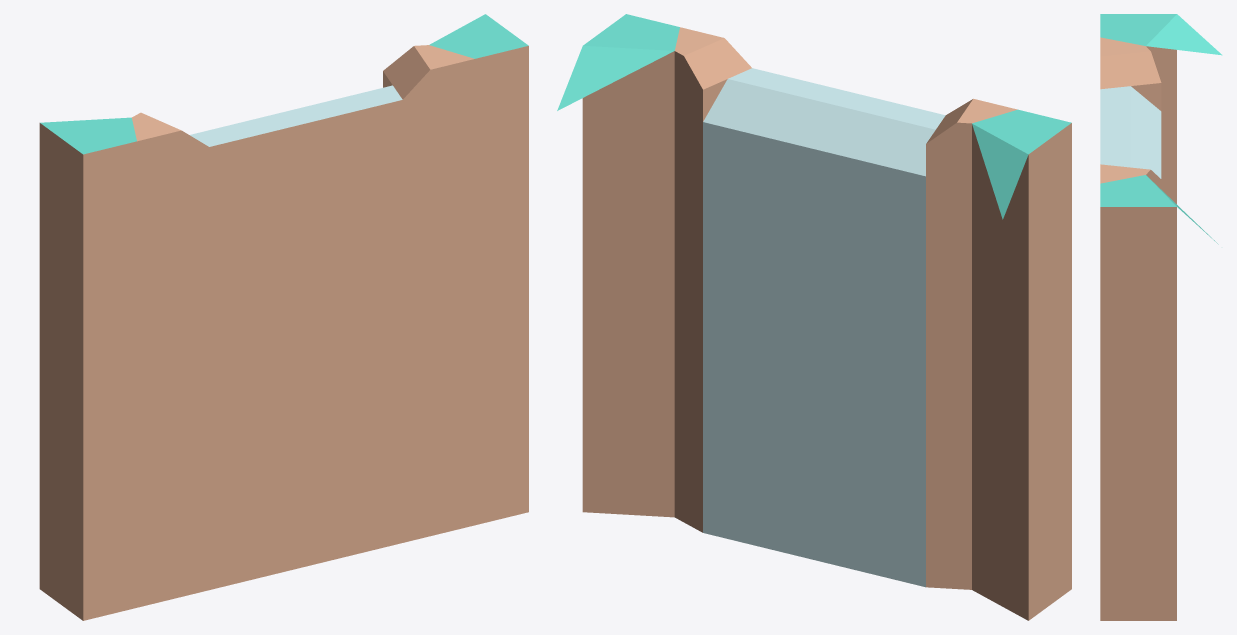
The model's file is cliff_waterfallTop_rock.glb.
The picture shows the model from 3 angles, left to right: view 1: azimuth 30°, elevation 25°; view 2: azimuth 150°, elevation 25°; view 3: azimuth 270°, elevation 25°; orthographic projection. The views are drawn at different scales.
Parts seen in each view (by area): view 1: cliff_waterfallTop_rock; view 2: cliff_waterfallTop_rock; view 3: cliff_waterfallTop_rock.
Boxes of the visible parts, bbox=[...] form: cliff_waterfallTop_rock: bbox=[39, 14, 528, 620]; cliff_waterfallTop_rock: bbox=[557, 14, 1071, 620]; cliff_waterfallTop_rock: bbox=[1100, 14, 1222, 620].
Bounding box in the file's own units: 1 × 1 × 0.2685.
